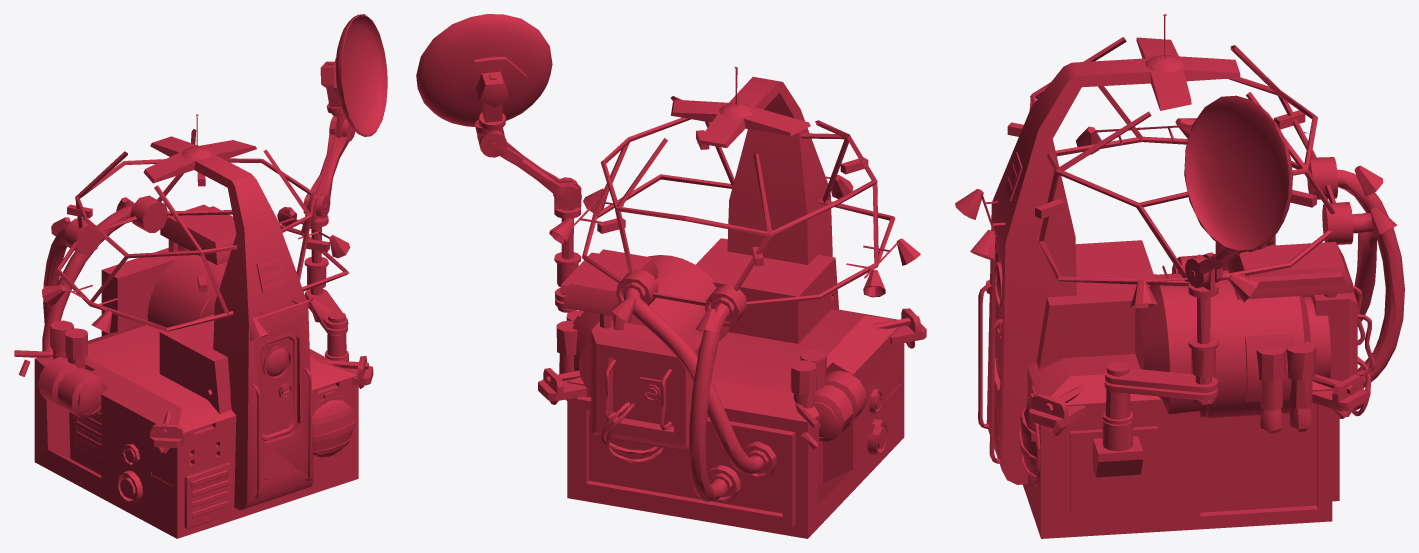
File: Broken module.fbx
The picture shows the model from 3 angles, left to right: view 1: azimuth 30°, elevation 25°; view 2: azimuth 150°, elevation 25°; view 3: azimuth 270°, elevation 25°; orthographic projection. The views are drawn at different scales.
Parts seen in each view (by area): view 1: Top antena; view 2: Top antena; view 3: Top antena.
Boxes of the visible parts, x1,y1,x2,y2 form: Top antena: (14,14,387,538); Top antena: (416,14,926,538); Top antena: (955,14,1404,538).
Size of the model in its own units: 38.75 by 37.8 by 31.14.
